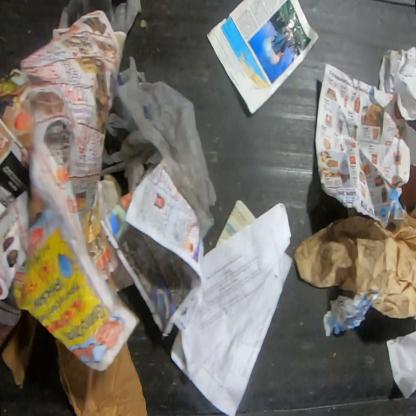cardboard: (56, 338, 147, 416), (398, 162, 416, 218)
soft_plastic: (100, 57, 217, 239), (58, 0, 142, 34)
